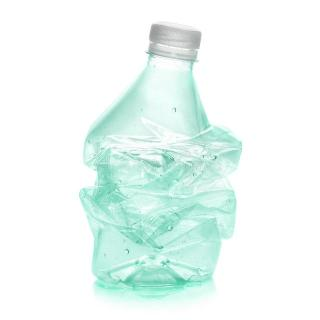Anorganik: (82, 18, 240, 294)
